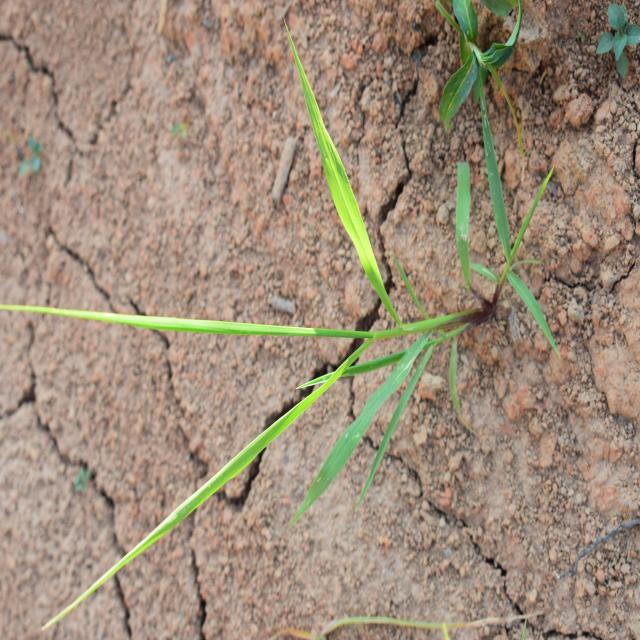green_foxtail: (19, 163, 468, 518)
